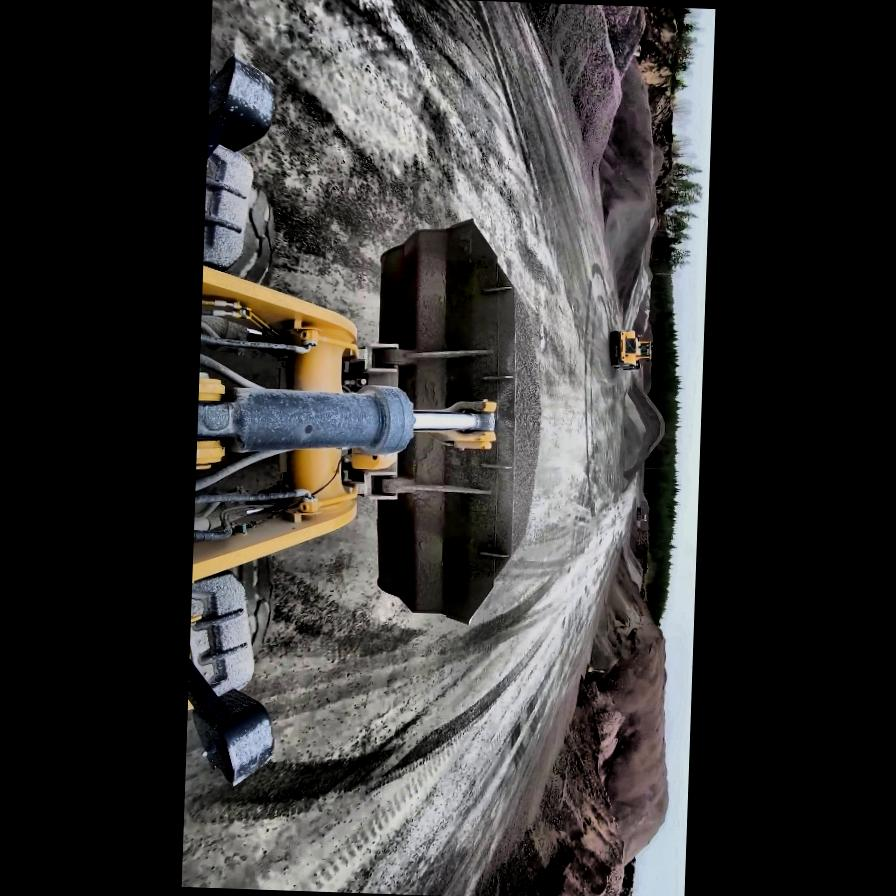anchor: (416, 398, 499, 452)
pile of gravel: (502, 570, 678, 896), (592, 54, 664, 304), (508, 2, 614, 95), (594, 562, 653, 668), (623, 380, 667, 478), (600, 5, 646, 76), (621, 545, 645, 594)
